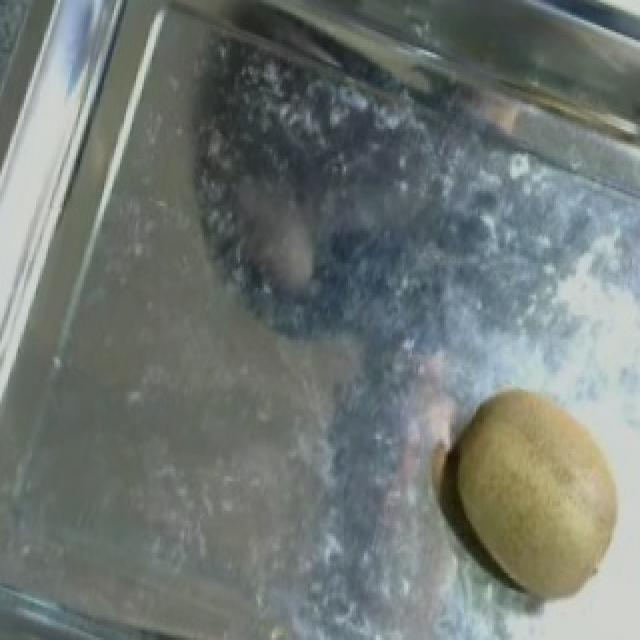Fruit: (426, 367, 640, 618)
